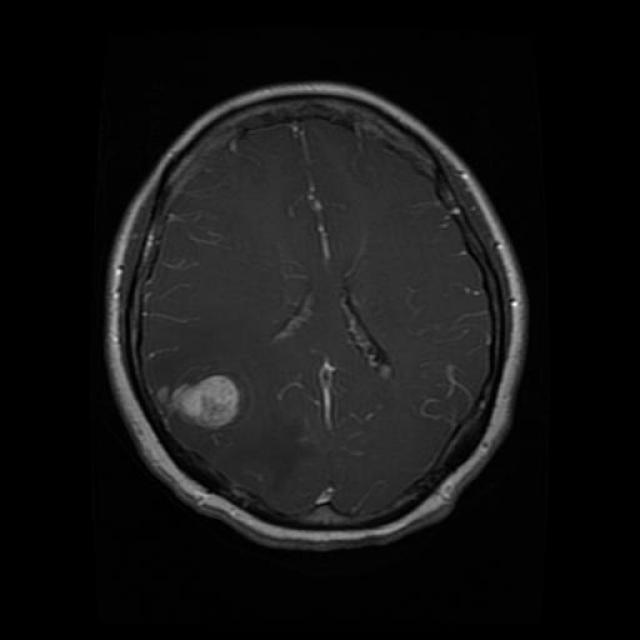Brain-Tumor: (160, 358, 258, 440)
